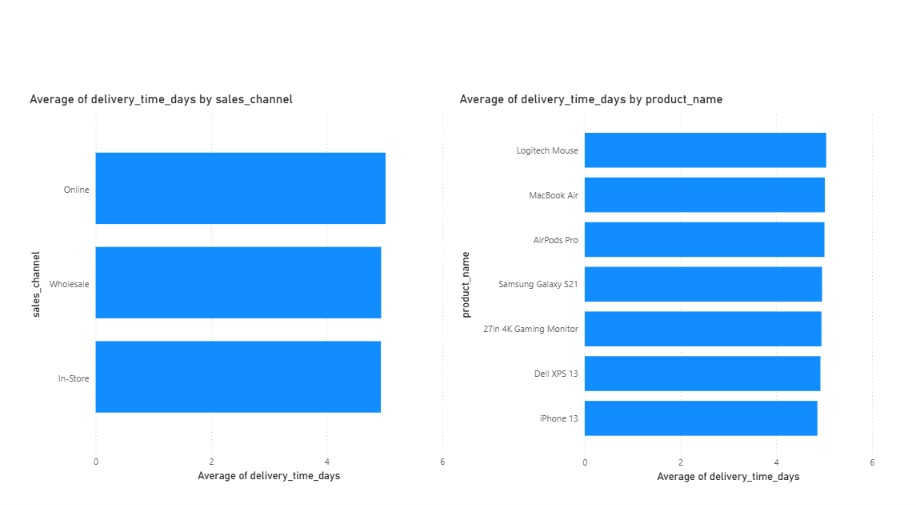

What the dashboard file says about the page in this screenshot:
{"tool":"powerbi","page":{"name":"Delivery Time","canvas":[1280,720],"ordinal":4},"visuals":[{"type":"clusteredBarChart","fields":{"Category":["public final_sales.sales_channel"],"Y":["Avg(public final_sales.delivery_time_days)"]},"box":[46.7,140,580.4,540.7],"z":0},{"type":"clusteredBarChart","fields":{"Category":["public final_sales.product_name"],"Y":["Avg(public final_sales.delivery_time_days)"]},"box":[637,140,580,541],"z":1}]}

Visuals, with their boxes in screenshot pixels (x1, y1, x2, y2), scaled from the page's 1280x720 canvas onto the 916x505 screenshot:
clusteredBarChart - public final_sales.sales_channel x Avg(public final_sales.delivery_time_days): left=33, top=98, right=449, bottom=477
clusteredBarChart - public final_sales.product_name x Avg(public final_sales.delivery_time_days): left=456, top=98, right=871, bottom=478
